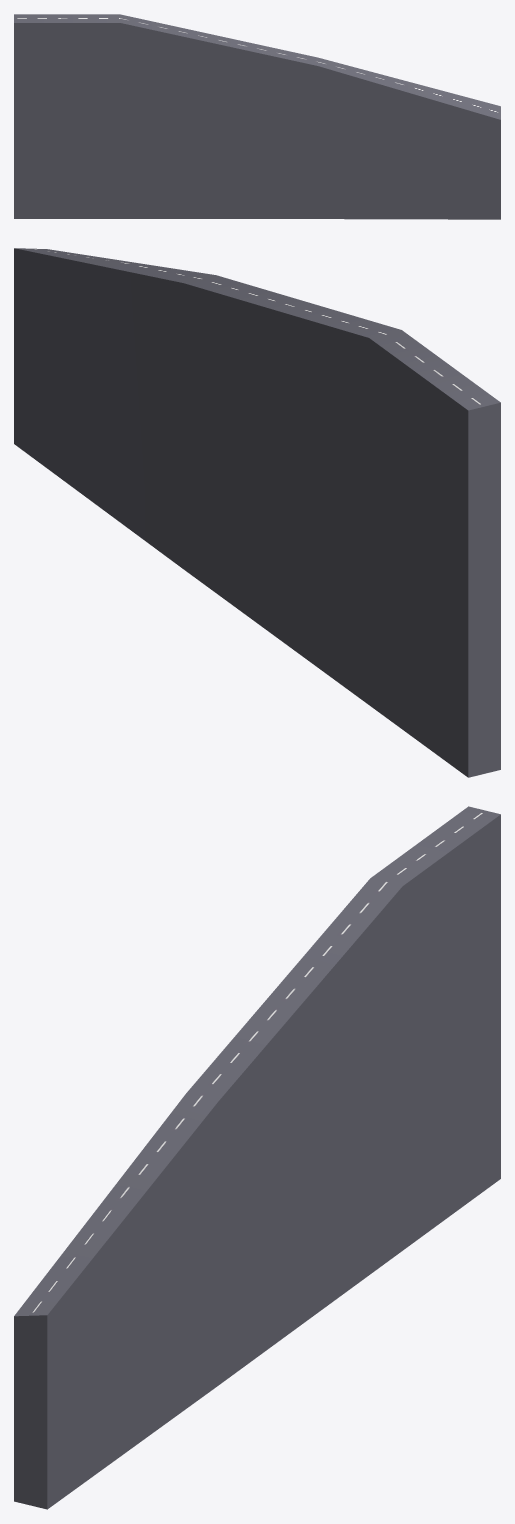
Rendered from road_13.gltf.
The picture shows the model from 3 angles, top to bottom: view 1: azimuth 30°, elevation 25°; view 2: azimuth 150°, elevation 25°; view 3: azimuth 270°, elevation 25°; orthographic projection. The views are drawn at different scales.
Parts seen in each view (by area): view 1: road; view 2: road; view 3: road.
Boxes of the visible parts, box(x1,y1,x2,y2) form: road: box(14, 14, 500, 219); road: box(14, 248, 500, 777); road: box(14, 806, 500, 1509).
Size of the model in its own units: 18.44 by 9.26 by 11.21.
Materials: 1 (1 with a texture image).
